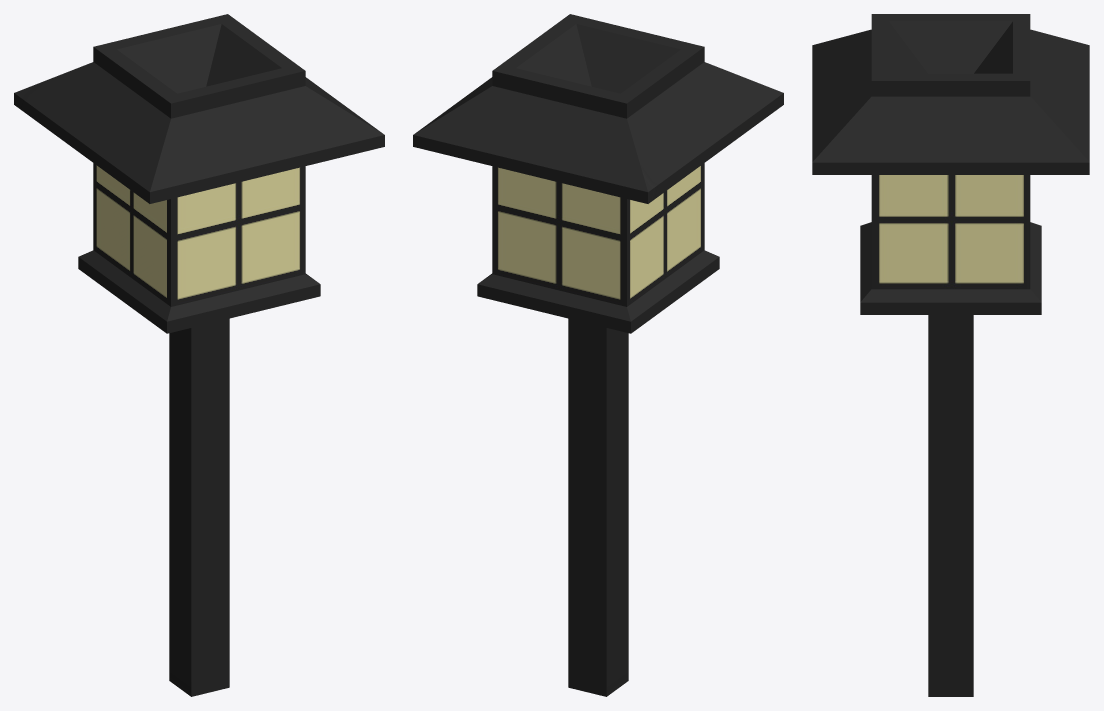
The model's file is lanterne01.fbx.
3 views of the same model, side by side, from view 1: azimuth 30°, elevation 25°; view 2: azimuth 150°, elevation 25°; view 3: azimuth 270°, elevation 25° (orthographic). The views are drawn at different scales.
Visible parts, largest first — view 1: lanterne; view 2: lanterne; view 3: lanterne.
Boxes of the visible parts, box(x1,y1,x2,y2) form: lanterne: box(14, 14, 384, 696); lanterne: box(413, 14, 783, 696); lanterne: box(812, 14, 1089, 696).
Size of the model in its own units: 61.17 by 156 by 61.17.
Materials: 1 (1 with a texture image).
